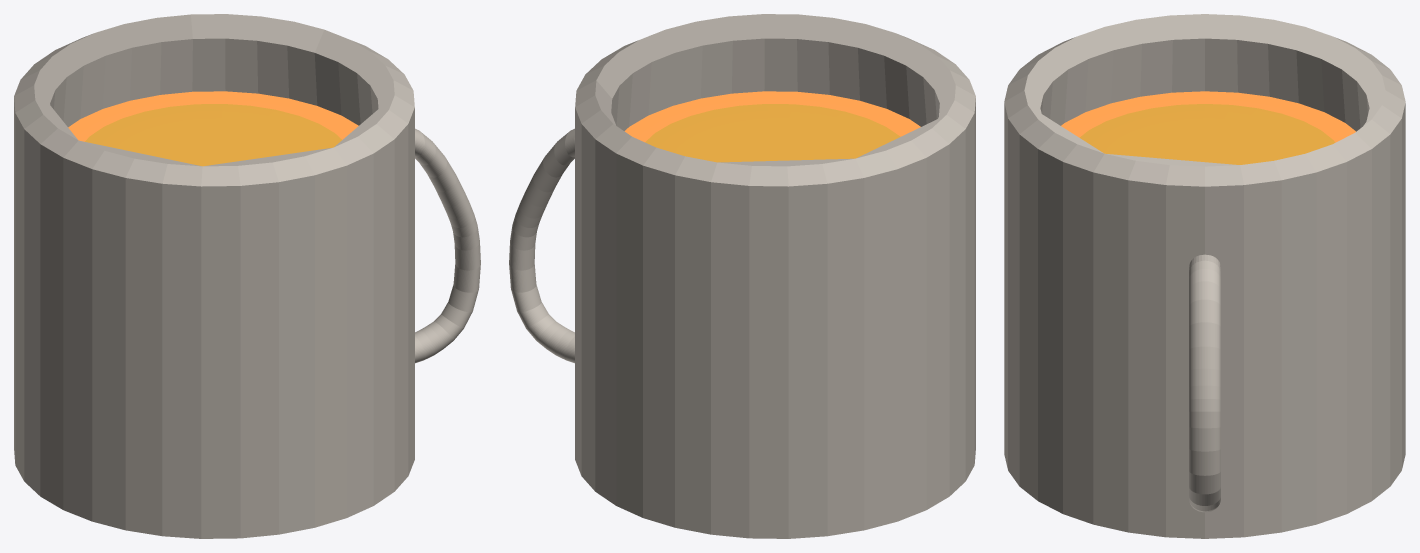
File: Coffee1.fbx
3 views of the same model, side by side, from view 1: azimuth 30°, elevation 25°; view 2: azimuth 150°, elevation 25°; view 3: azimuth 270°, elevation 25° (orthographic).
Visible parts, largest first — view 1: Cylinder, Sphere, Cylinder.001, Torus; view 2: Cylinder, Sphere, Cylinder.001, Torus; view 3: Cylinder, Sphere, Cylinder.001, Torus.
Boxes of the visible parts, x1,y1,x2,y2 form: Cylinder: [14, 14, 414, 538]; Sphere: [85, 104, 341, 166]; Cylinder.001: [415, 128, 480, 363]; Torus: [68, 91, 358, 141]; Cylinder: [575, 14, 975, 538]; Sphere: [645, 104, 900, 162]; Cylinder.001: [509, 128, 574, 363]; Torus: [624, 91, 920, 142]; Cylinder: [1004, 14, 1405, 538]; Sphere: [1079, 104, 1335, 164]; Cylinder.001: [1189, 254, 1220, 512]; Torus: [1061, 91, 1355, 142].
Bounding box in the file's own units: 252 × 200 × 200.
